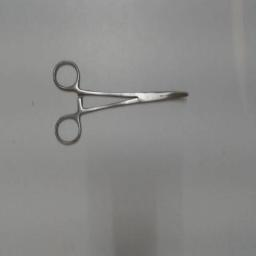Crile Artery Forceps: (53, 56, 193, 146)
